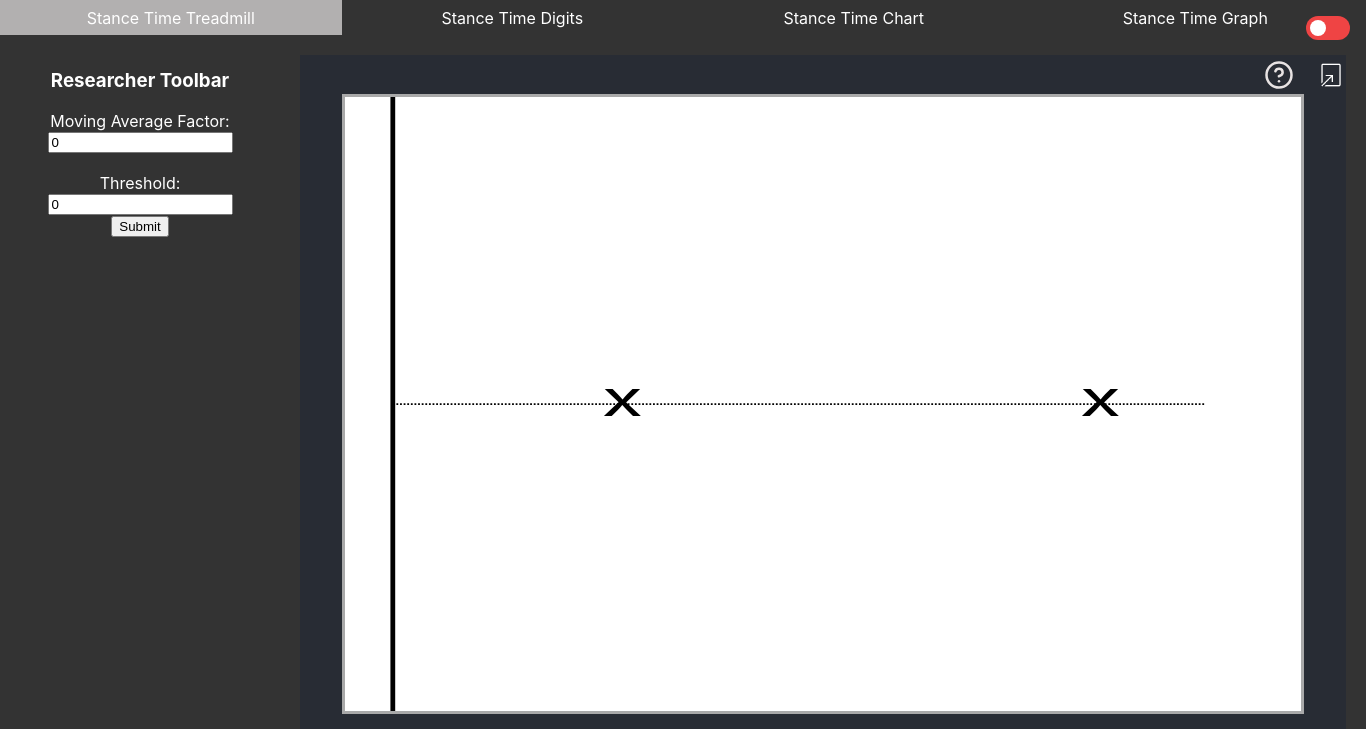
Scenario: View Swapping › Navbar swap renders StanceTimeGraph view
Click the list item with test id "stance-time-graph-nav". click: (1195, 18)
box: [1123,8,1268,28]
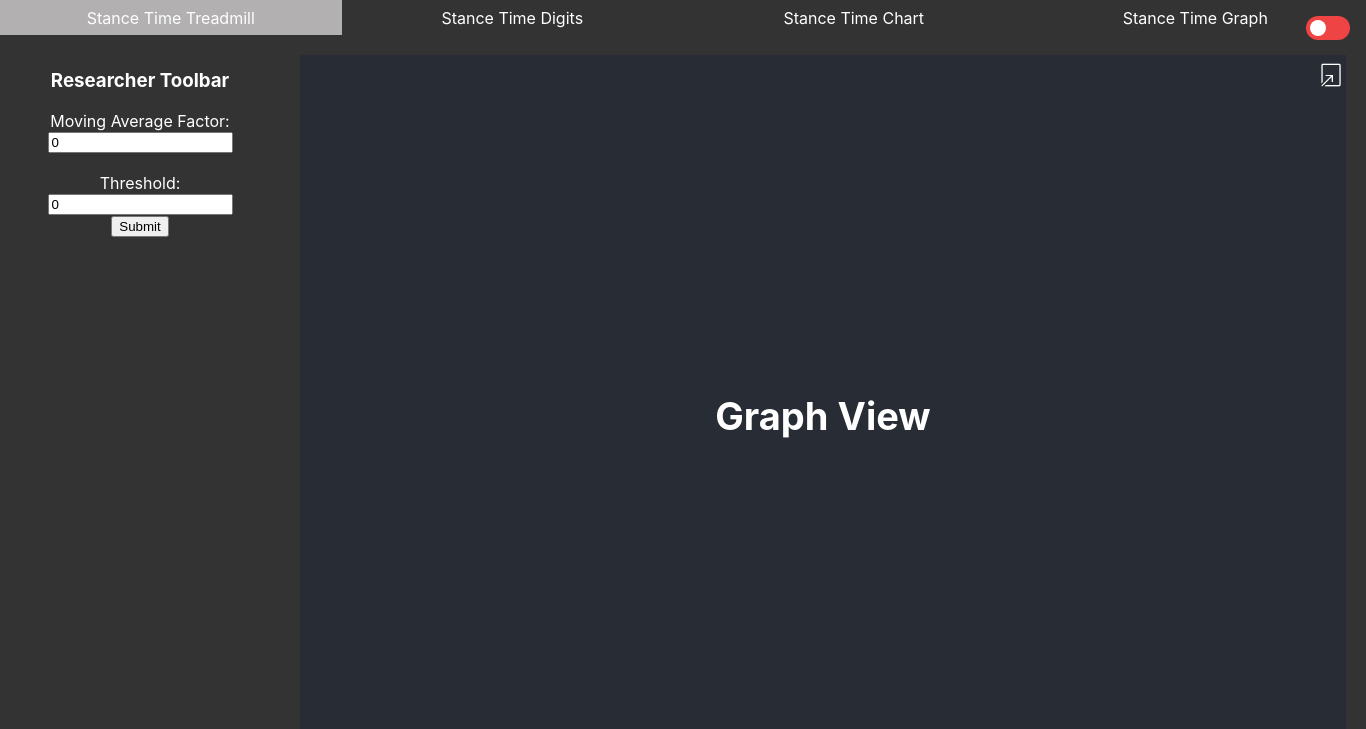
expect the element with test id "stance-time-graph-view" is shown: met, box [715,393,931,439]
